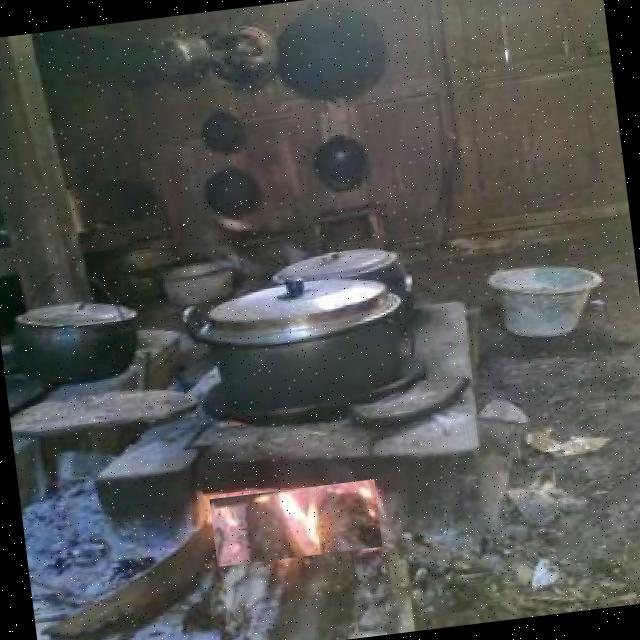fire: (209, 478, 382, 566)
